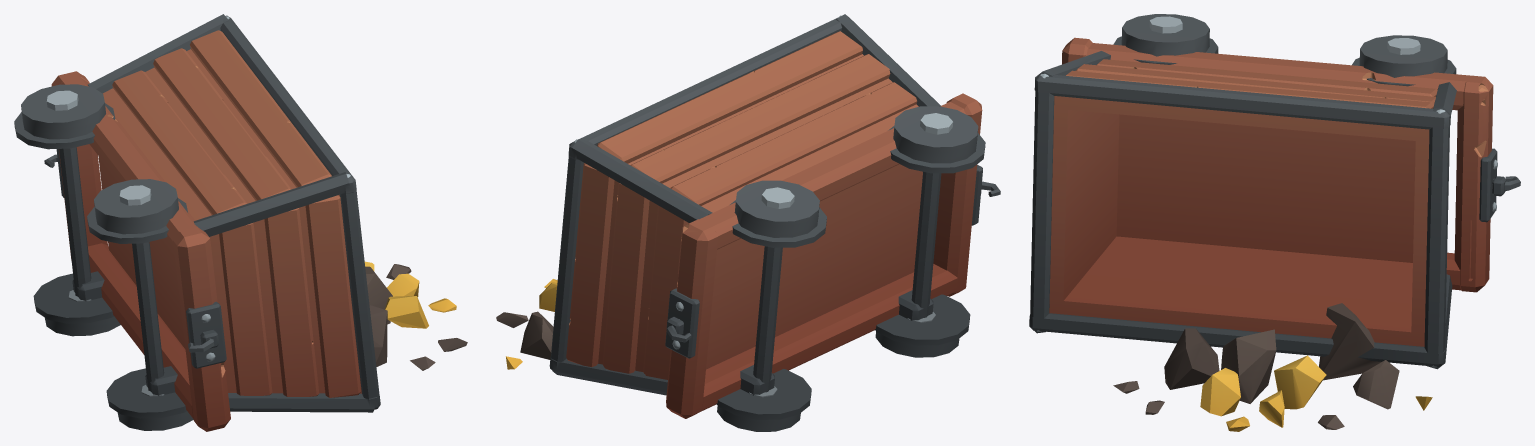
Rendered from mine_cart_tipped.glb.
The picture shows the model from 3 angles, left to right: view 1: azimuth 30°, elevation 25°; view 2: azimuth 150°, elevation 25°; view 3: azimuth 270°, elevation 25°; orthographic projection. The views are drawn at different scales.
Parts seen in each view (by area): view 1: mine_cart_tipped; view 2: mine_cart_tipped; view 3: mine_cart_tipped.
Part boxes in pixels (x1,y1,x2,y2): mine_cart_tipped: (14, 14, 467, 431); mine_cart_tipped: (496, 14, 1000, 431); mine_cart_tipped: (1029, 14, 1520, 431).
Size of the model in its own units: 2.1 by 1.32 by 2.18.
Materials: 1 (1 with a texture image).
